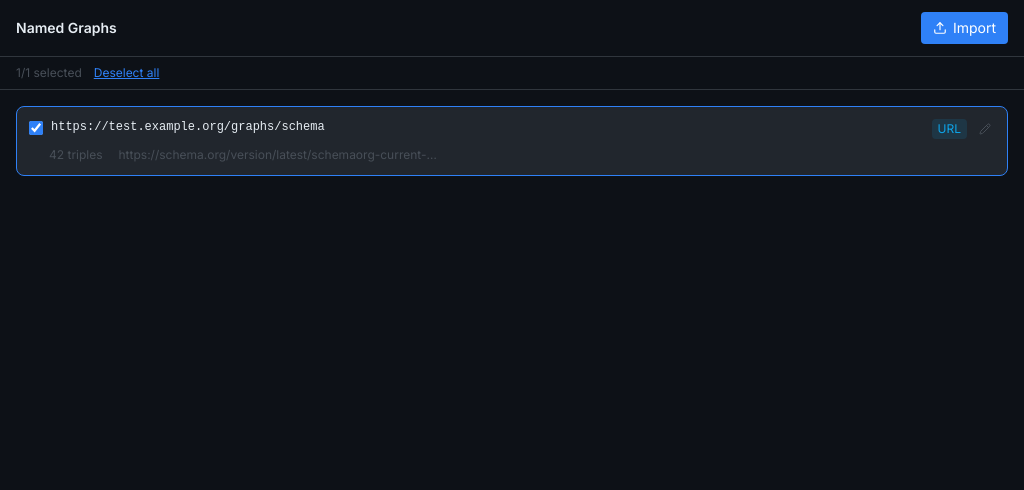
NamedGraphList › clicking edit button again (toggle) closes the TTL editor panel
Click the button titled "Edit TTL". click: [985, 129]
box: [975,119,995,139]
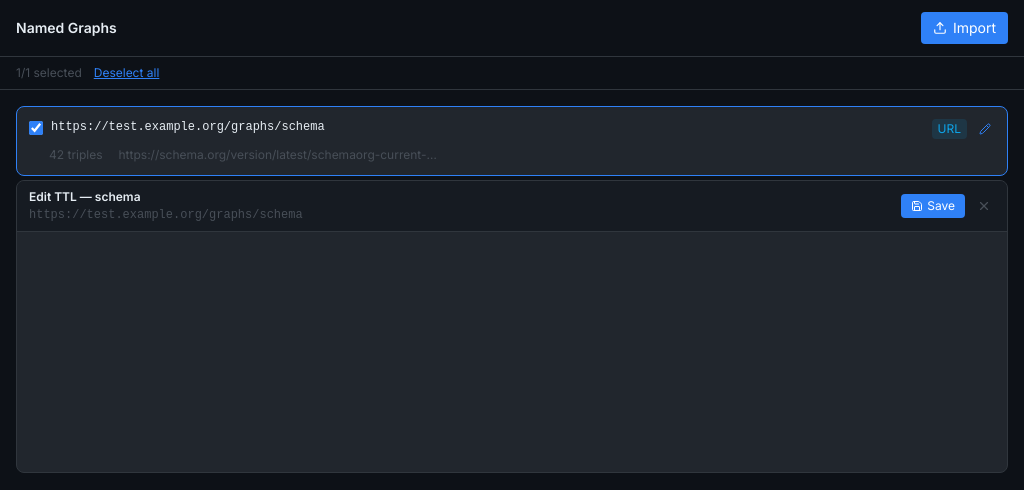
Now the text "Edit TTL — schema" is shown, box [29,189,141,204]
Note: Clicking the edit button again toggles the panel closed
Click the button titled "Edit TTL". click: [985, 129]
box: [975,119,995,139]
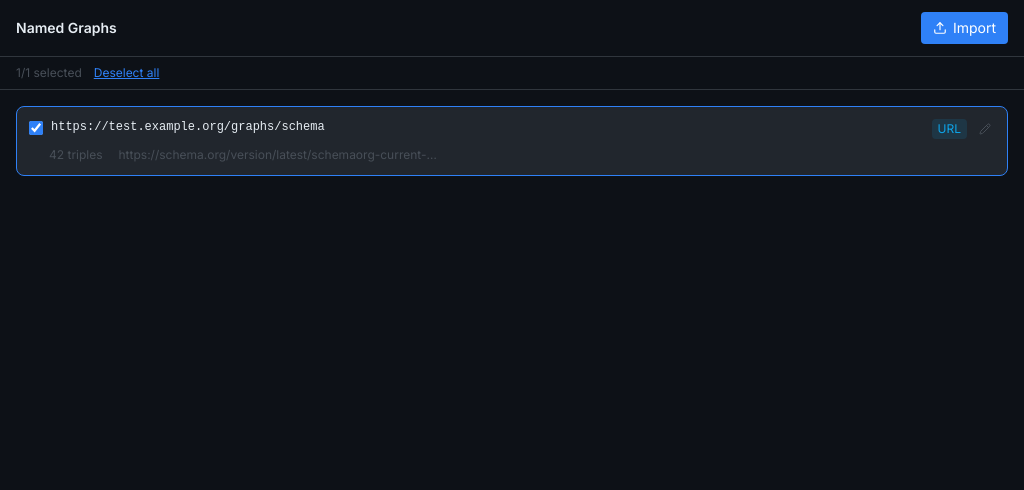
Now the text "Edit TTL" is gone
